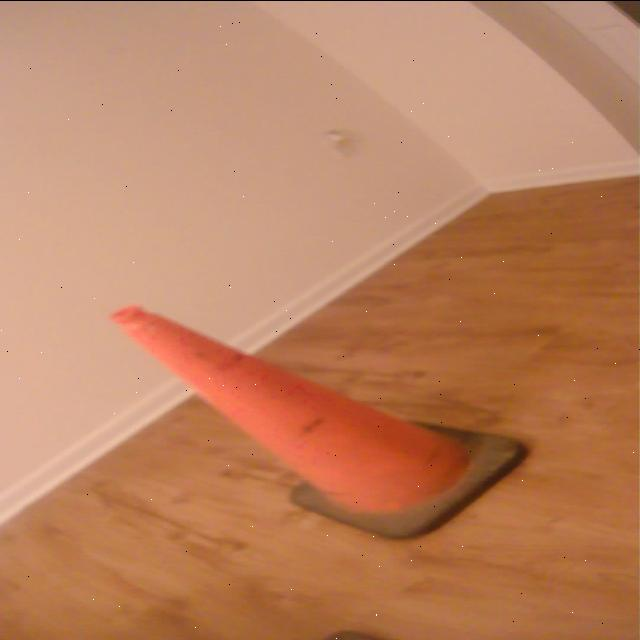traffic cone: (101, 302, 535, 547)
